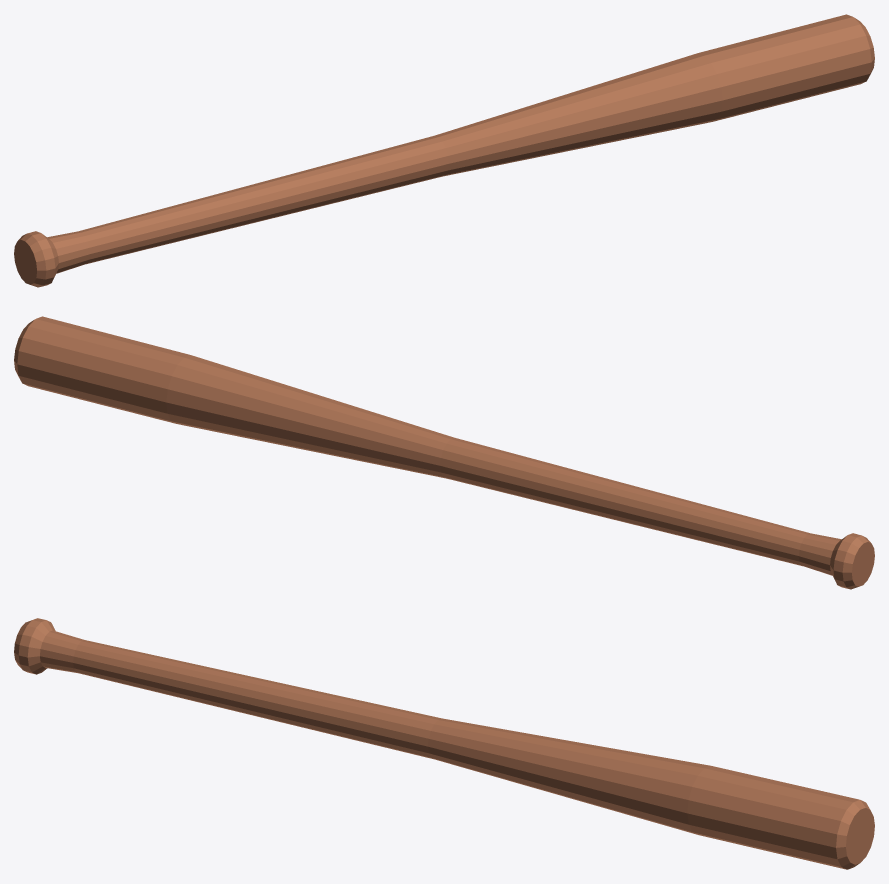
File: baseballBat.fbx
The picture shows the model from 3 angles, top to bottom: view 1: azimuth 30°, elevation 25°; view 2: azimuth 150°, elevation 25°; view 3: azimuth 330°, elevation 25°; orthographic projection.
Visible parts, largest first — view 1: baseballBat; view 2: baseballBat; view 3: baseballBat.
Boxes of the visible parts, bbox=[...] form: baseballBat: bbox=[14, 14, 874, 287]; baseballBat: bbox=[14, 316, 874, 589]; baseballBat: bbox=[14, 618, 874, 869].
Size of the model in its own units: 0.8763 by 0.0686 by 0.065.
Materials: 1 (1 with a texture image).
